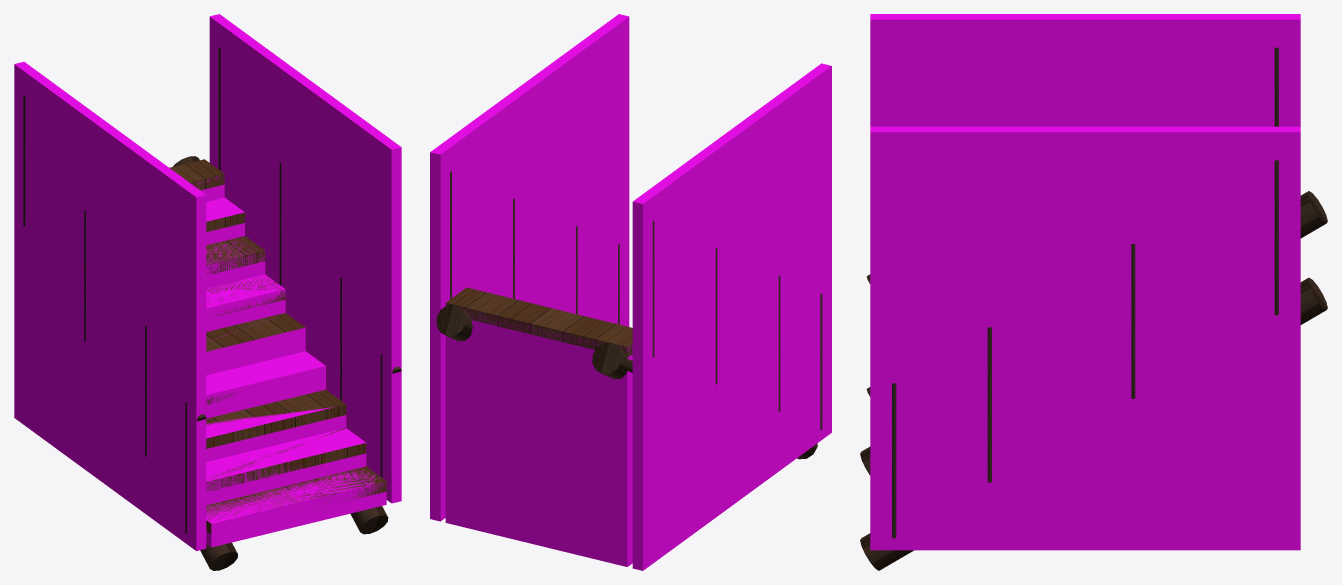
The model's file is tangga.glb.
The picture shows the model from 3 angles, left to right: view 1: azimuth 30°, elevation 25°; view 2: azimuth 150°, elevation 25°; view 3: azimuth 270°, elevation 25°; orthographic projection. The views are drawn at different scales.
Visible parts, largest first — view 1: col_rail_l, col_rail_r, tangga_treads, col_step_9, col_step_8, col_step_6, tangga_kayu, col_step_4, col_step_7, col_step_5, col_step_3, col_step_2; view 2: col_rail_l, col_rail_r, col_step_1, tangga_treads, tangga_kayu; view 3: col_rail_r, col_rail_l, tangga_kayu.
Part boxes in pixels (<box>): col_rail_l: <box>14,61,206,550</box>; col_rail_r: <box>209,14,401,503</box>; tangga_treads: <box>169,159,386,533</box>; col_step_9: <box>206,469,386,547</box>; col_step_8: <box>206,428,366,505</box>; col_step_6: <box>206,351,325,418</box>; tangga_kayu: <box>23,47,401,570</box>; col_step_4: <box>206,274,285,331</box>; col_step_7: <box>206,407,346,461</box>; col_step_5: <box>206,317,305,375</box>; col_step_3: <box>206,239,265,288</box>; col_step_2: <box>206,197,244,245</box>; col_rail_l: <box>632,63,831,570</box>; col_rail_r: <box>430,14,629,521</box>; col_step_1: <box>445,303,632,566</box>; tangga_treads: <box>445,287,632,357</box>; tangga_kayu: <box>436,171,822,459</box>; col_rail_r: <box>870,126,1300,550</box>; col_rail_l: <box>870,14,1300,126</box>; tangga_kayu: <box>860,47,1327,570</box>.
Size of the model in its own units: 1.65 by 2.92 by 2.74.
Materials: 3 (2 with a texture image).
